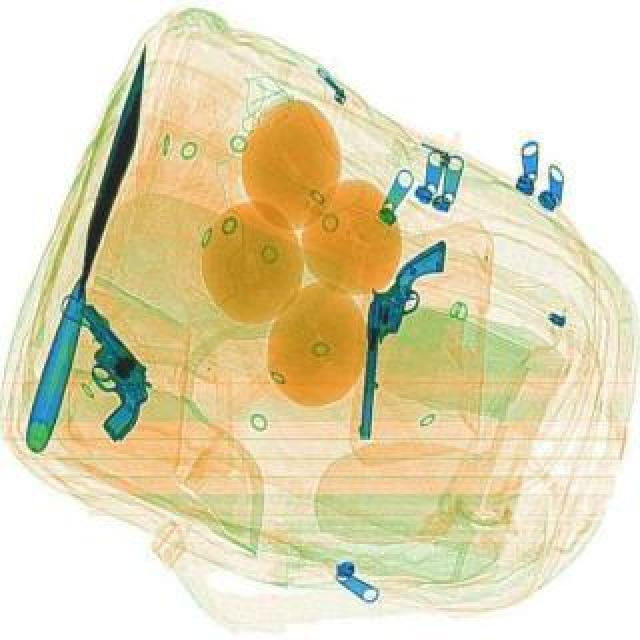gun: (26, 300, 178, 442), (354, 232, 446, 444)
knife: (16, 40, 164, 452)
